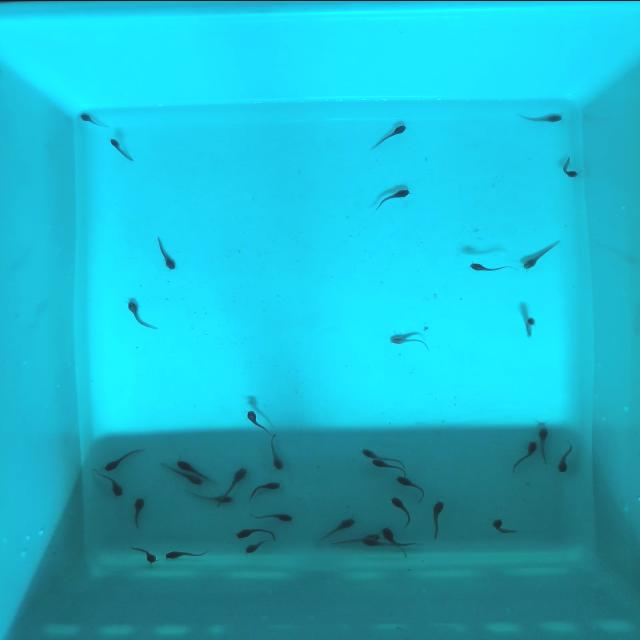lele: (519, 235, 567, 273), (121, 298, 161, 336), (508, 435, 543, 478), (103, 443, 151, 473), (367, 119, 412, 151), (370, 182, 416, 213), (157, 457, 204, 485), (395, 472, 434, 505), (103, 133, 142, 166), (173, 456, 219, 483), (93, 464, 128, 499), (552, 438, 582, 478), (153, 233, 183, 273), (358, 445, 410, 467), (388, 494, 421, 528), (316, 515, 358, 541), (221, 463, 253, 496), (379, 525, 417, 551), (182, 487, 238, 504), (243, 407, 273, 438), (330, 532, 384, 549), (245, 477, 284, 500), (389, 331, 436, 349), (488, 513, 519, 540), (266, 432, 287, 471), (247, 508, 297, 524), (555, 155, 584, 182), (235, 523, 280, 540), (370, 457, 412, 475), (78, 110, 114, 131), (130, 541, 161, 565), (164, 546, 213, 561), (535, 423, 552, 466), (465, 259, 521, 272), (129, 495, 148, 528), (430, 499, 446, 538), (515, 112, 566, 123), (243, 537, 272, 555), (363, 537, 403, 548), (523, 315, 536, 339)
